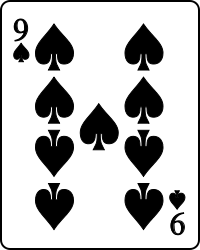nine of spades: (8, 7, 195, 240)
